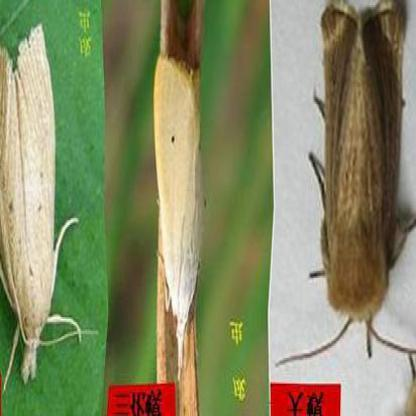stem-borer: (280, 0, 416, 365), (0, 19, 89, 392), (152, 53, 205, 378)
